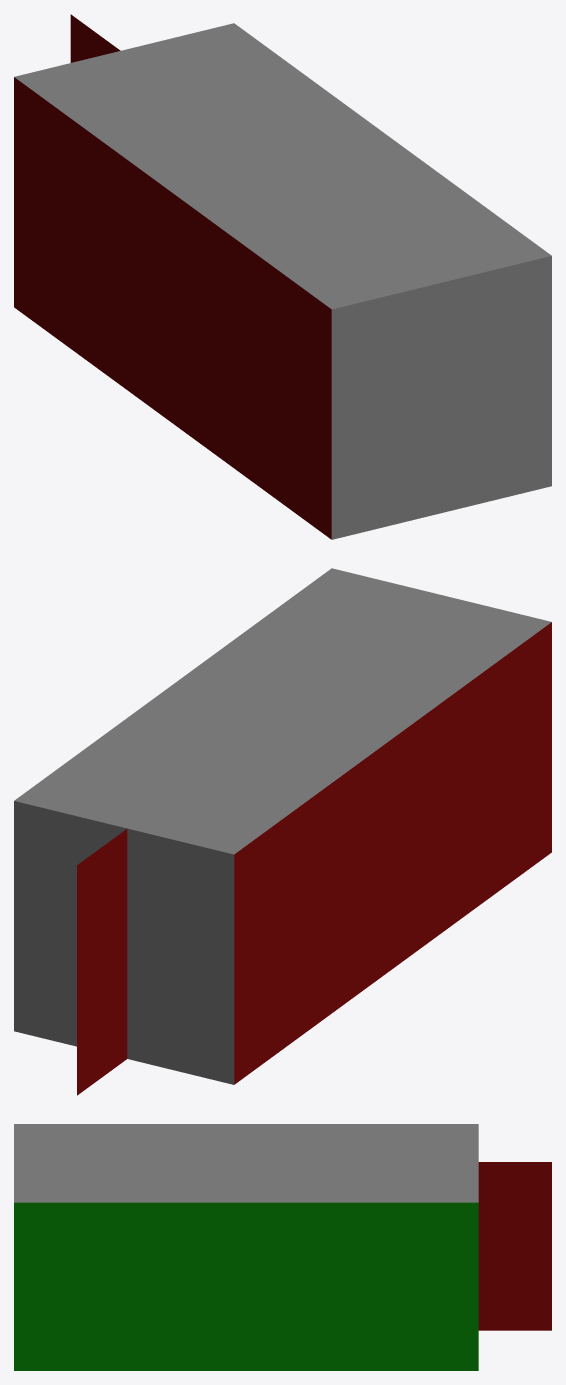
The model's file is testtt.obj.
3 renders of one model, top to bottom at view 1: azimuth 30°, elevation 25°; view 2: azimuth 150°, elevation 25°; view 3: azimuth 270°, elevation 25°, orthographic. The views are drawn at different scales.
Parts seen in each view (by area): view 1: box_4.002, Plane.001_Plane.013; view 2: box_4.002, Plane.001_Plane.013; view 3: box_4.002, Plane.001_Plane.013.
Boxes of the visible parts, <box> form: box_4.002: <box>14,23,551,539</box>; Plane.001_Plane.013: <box>70,14,120,62</box>; box_4.002: <box>14,568,551,1084</box>; Plane.001_Plane.013: <box>77,829,127,1095</box>; box_4.002: <box>14,1124,478,1370</box>; Plane.001_Plane.013: <box>478,1162,551,1330</box>.
Bounding box in the file's own units: 4 × 4.01 × 11.58.
